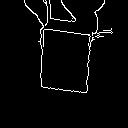cube: (32, 24, 99, 96)
